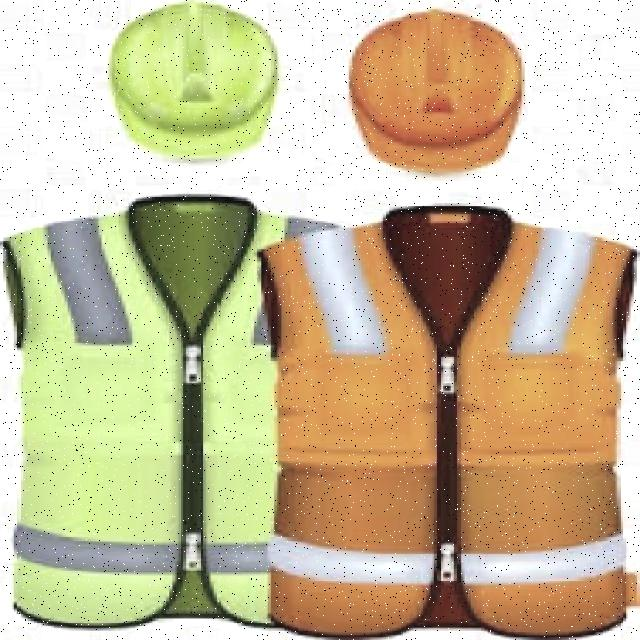Helmet: (353, 9, 527, 176), (110, 3, 276, 162)
Mask: (283, 209, 629, 631), (0, 200, 269, 622)
